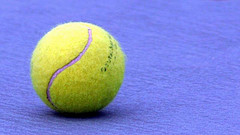tennis ball: (29, 20, 125, 113)
